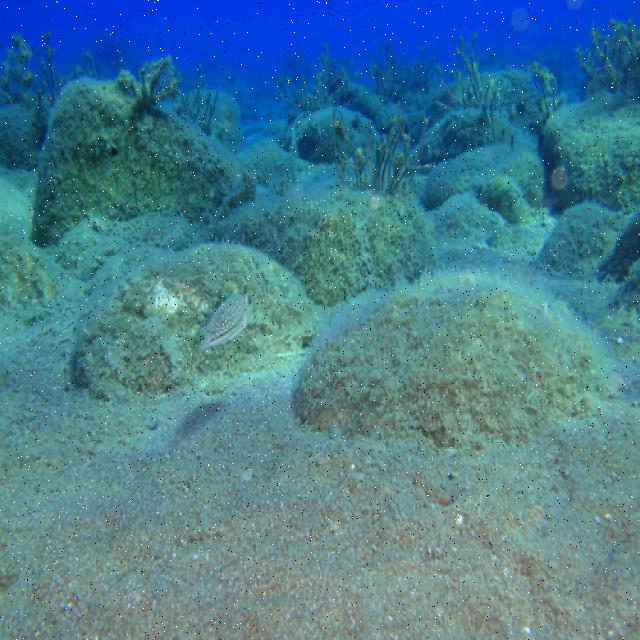Balik: (199, 294, 250, 349)
